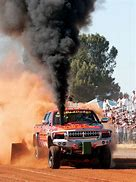smoke: (1, 1, 93, 123)
